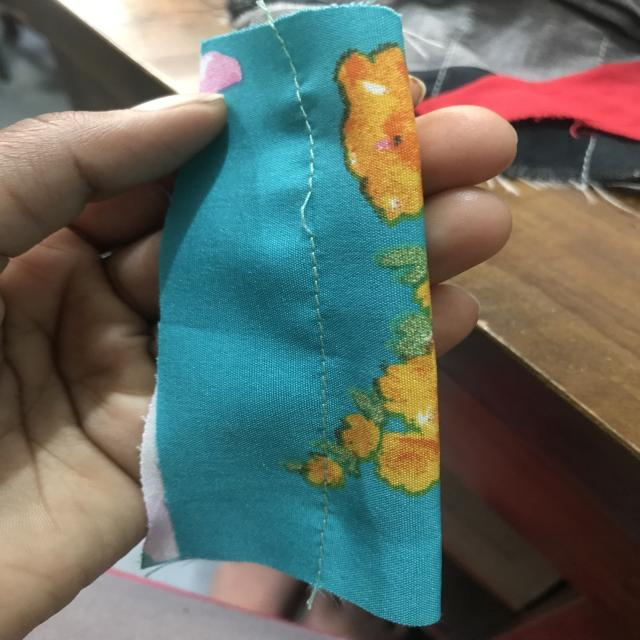skip: (283, 182, 330, 246)
